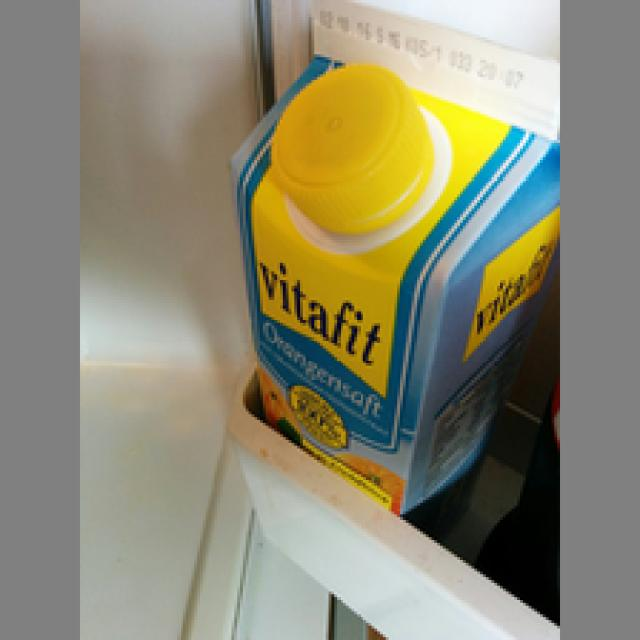groceries: (226, 0, 557, 523)
